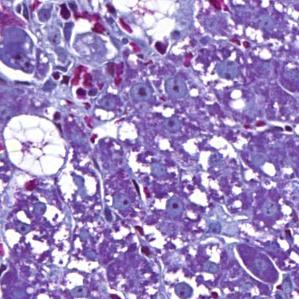ballooning: (4, 113, 68, 178), (110, 3, 181, 46)
